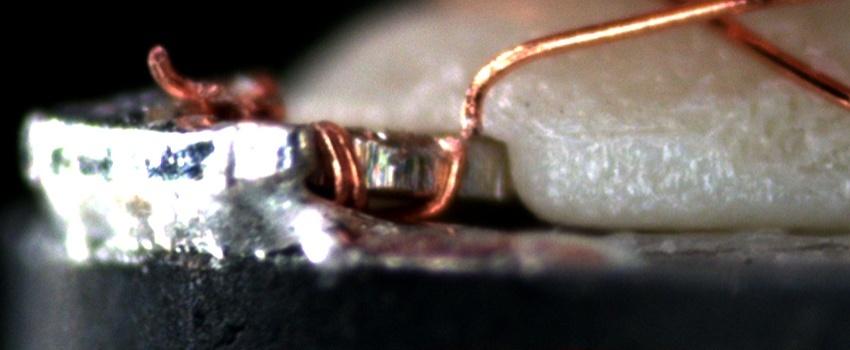DL: (539, 99, 723, 163)
TE: (142, 36, 464, 229)
